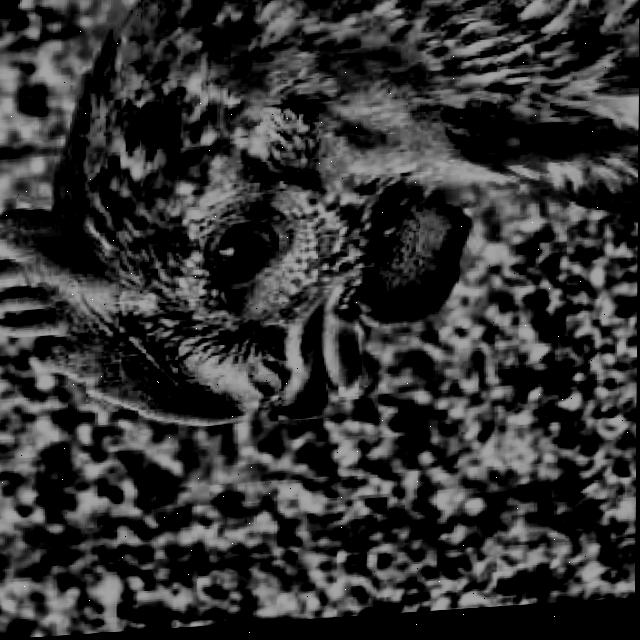Healthy: (192, 187, 303, 323)
